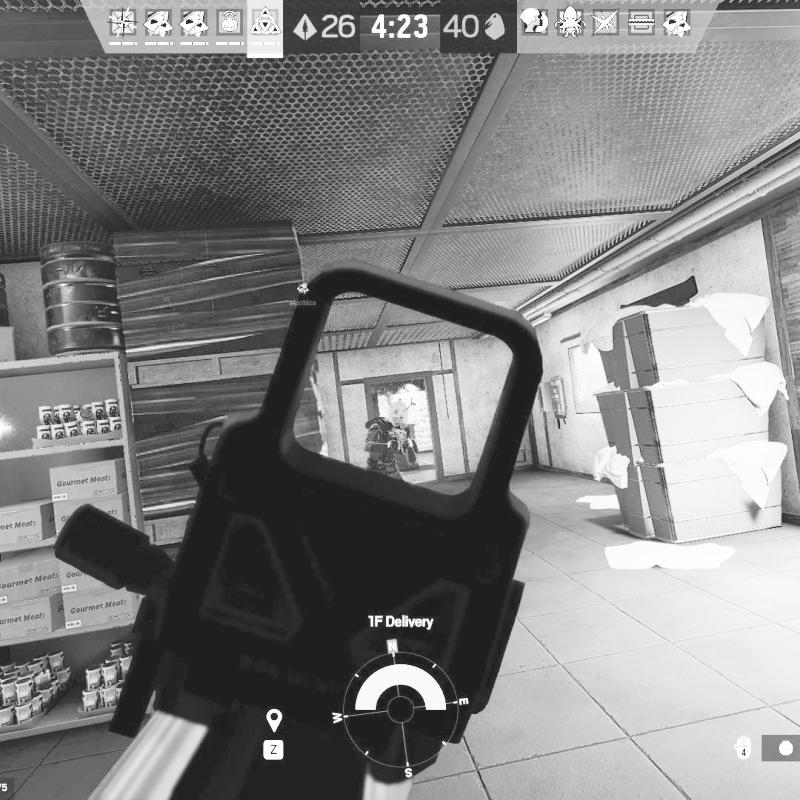Character: (362, 399, 420, 478)
Friend_label: (287, 281, 318, 309)
Head: (385, 400, 410, 429)
